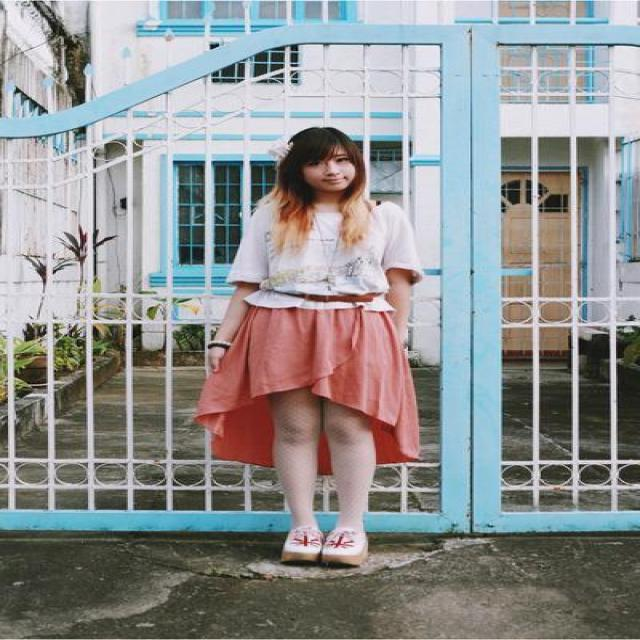shirt: (214, 192, 438, 322)
shoe: (275, 525, 402, 590)
skirt: (178, 300, 438, 498)
